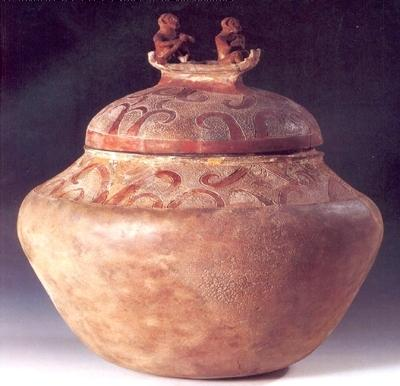manunggul_jar: (9, 11, 389, 378)
